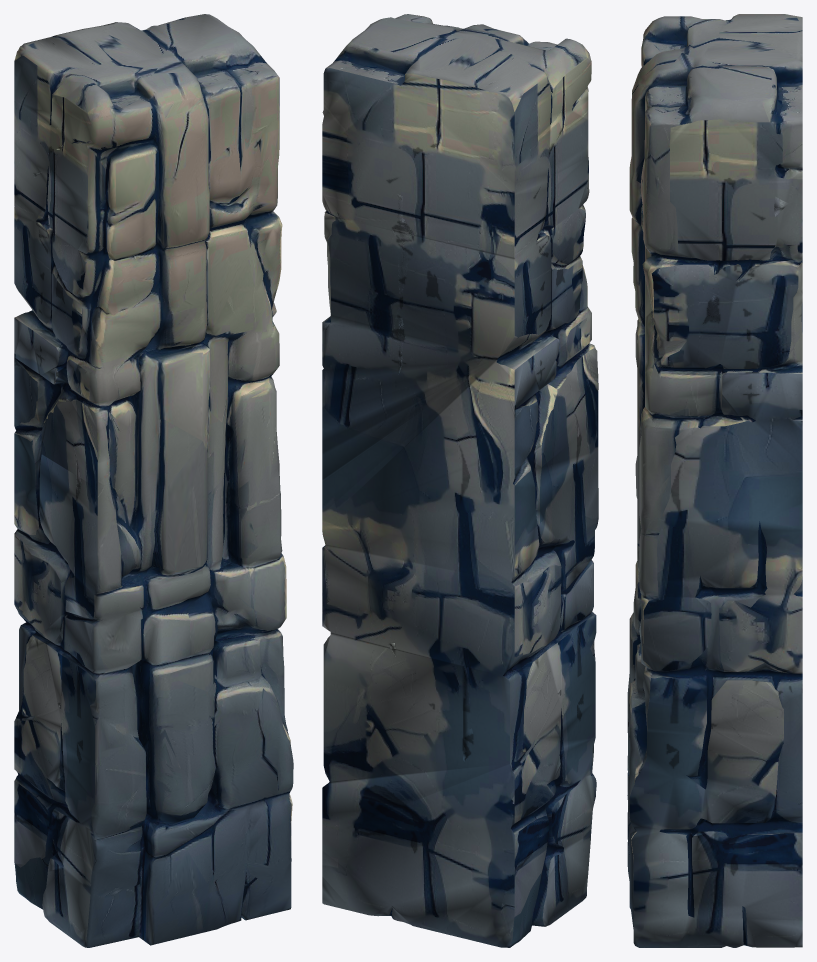
The model's file is cliff_tall.glb.
The picture shows the model from 3 angles, left to right: view 1: azimuth 30°, elevation 25°; view 2: azimuth 150°, elevation 25°; view 3: azimuth 270°, elevation 25°; orthographic projection.
Visible parts, largest first — view 1: CLIFF_TALL; view 2: CLIFF_TALL; view 3: CLIFF_TALL.
Part boxes in pixels (bbox=[...]): CLIFF_TALL: bbox=[14, 14, 293, 947]; CLIFF_TALL: bbox=[322, 14, 598, 947]; CLIFF_TALL: bbox=[627, 14, 802, 947].
Size of the model in its own units: 1.08 by 4.6 by 0.8642.
Materials: 1 (1 with a texture image).
